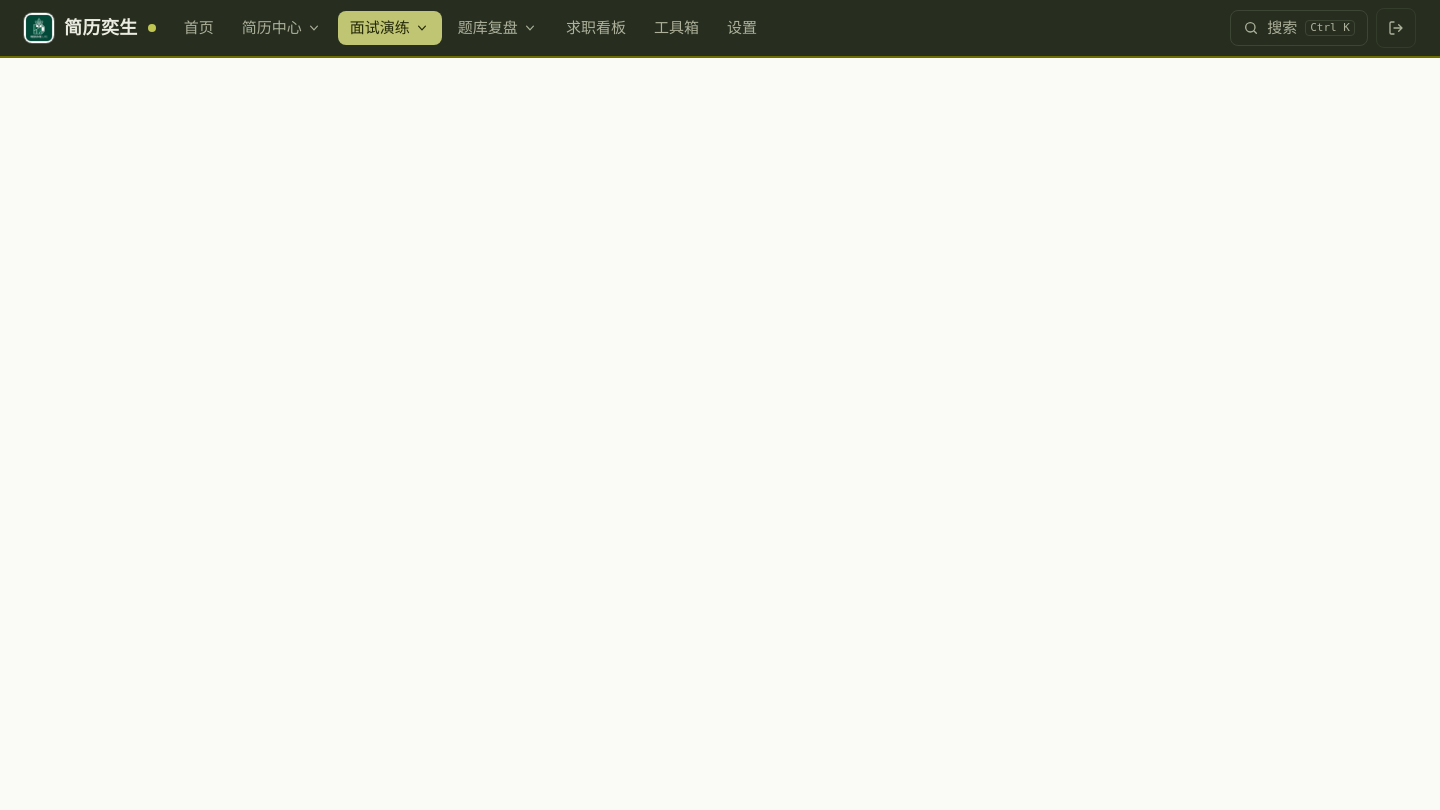
Scenario: 退出登录的结果 › 取消草稿退出选择不会撤销会话或删除副本
The width and height of the screenshot is (1440, 810).
What coordinates should you click on to do the following:
click the button named "退出登录"
I would click on:
 (1396, 28)
Its box is top-left (1376, 8), bottom-right (1416, 48).
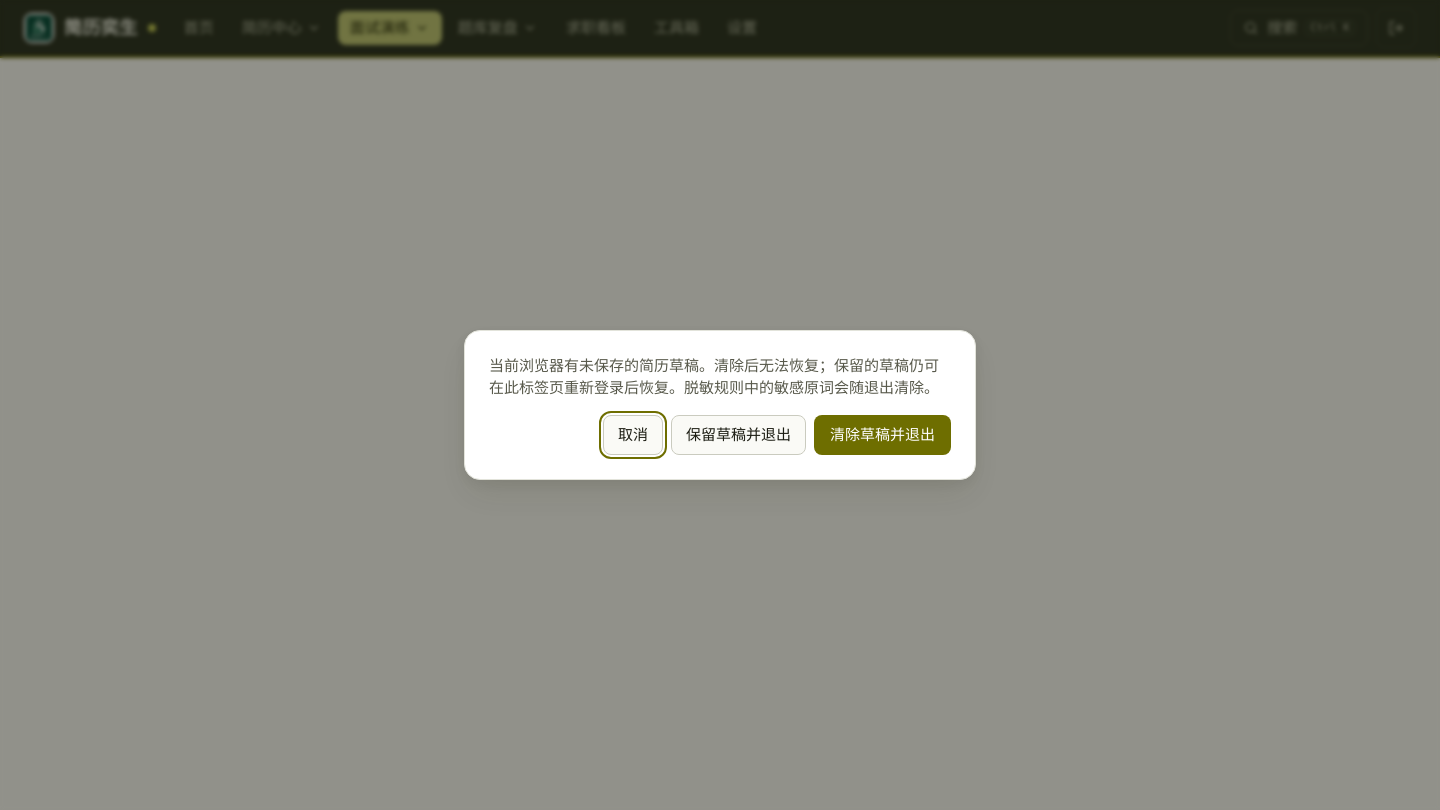
What coordinates should you click on to do the following:
click the button "取消"
I would click on:
 (633, 435)
Its box is top-left (603, 415), bottom-right (663, 455).
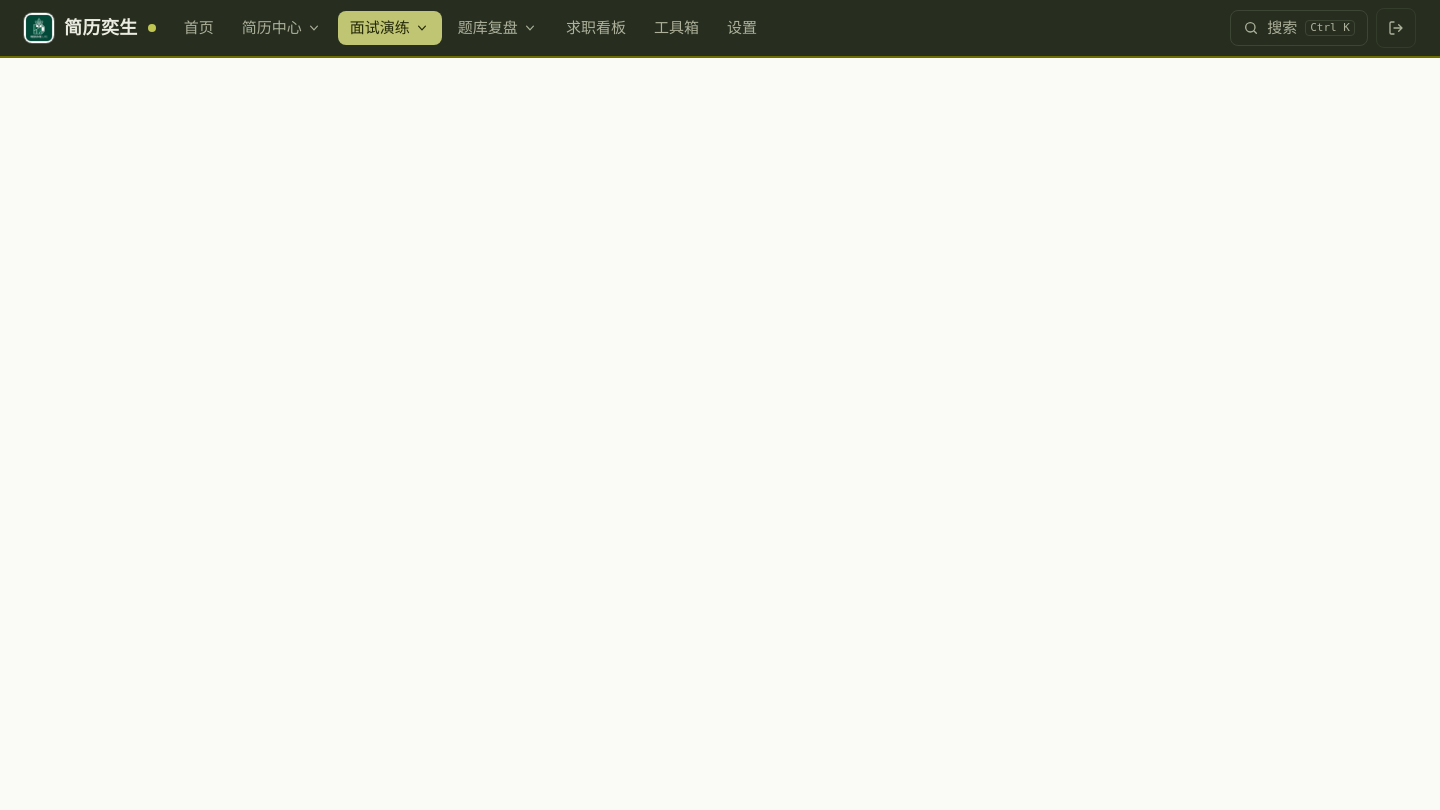
Check: the dialog is gone
